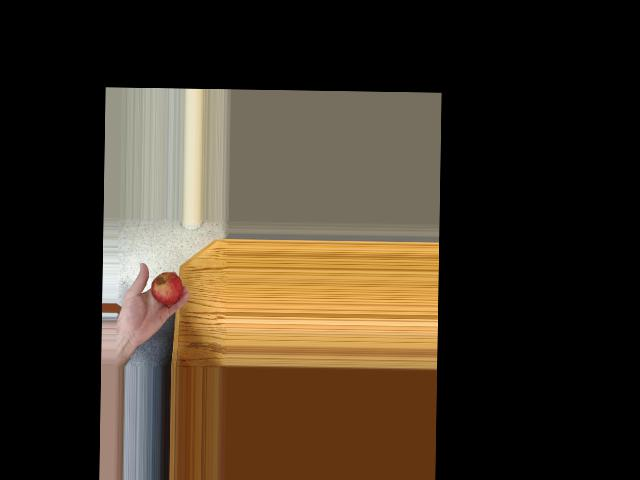apple: (147, 271, 182, 309)
